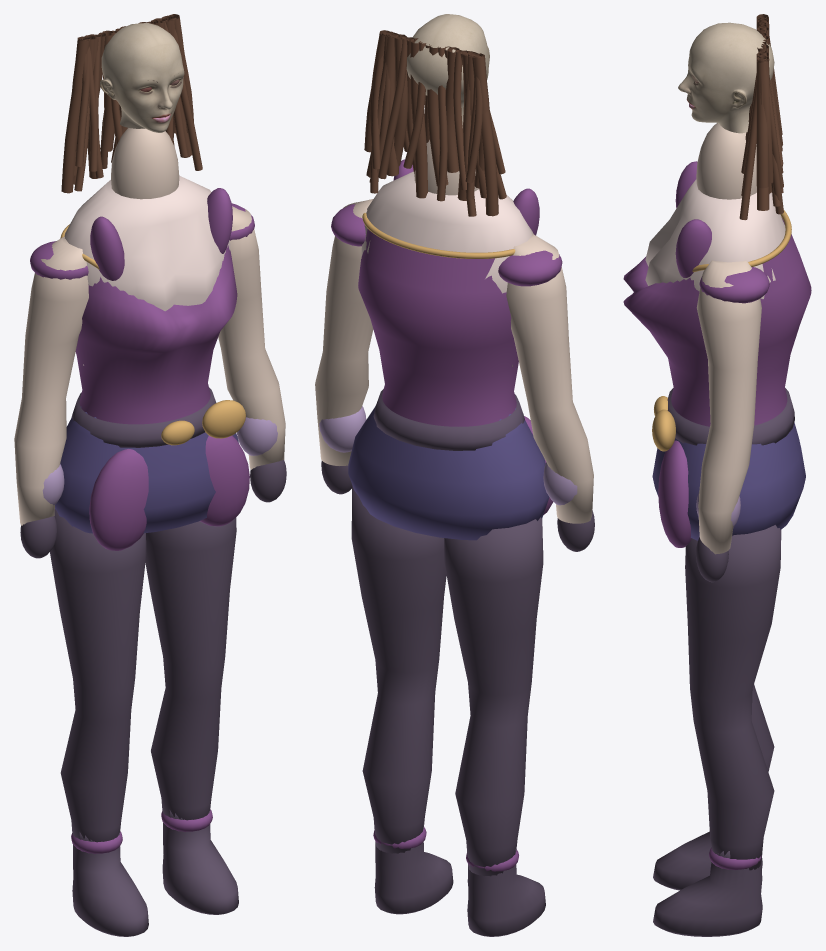
Rendered from katie_punch_0.glb.
3 renders of one model, left to right at view 1: azimuth 30°, elevation 25°; view 2: azimuth 150°, elevation 25°; view 3: azimuth 270°, elevation 25°, orthographic. The views are drawn at different scales.
Visible parts, largest first — view 1: Continuous trouser leg, Continuous trouser leg.001, Violet sweetheart bodice, Upper torso skin, Continuous arm, Fitted hip panel, Continuous arm.001, Imported Katie katie, Fitted boot, Fitted boot.001, Split violet overskirt, Neck (+19 smaller); view 2: Continuous trouser leg, Violet sweetheart bodice, Continuous trouser leg.001, Fitted hip panel, Continuous arm, Upper torso skin, Continuous arm.001, Fitted boot.001, Fitted boot, Imported Katie katie, Waist belt, Mantle clasp (+22 smaller); view 3: Continuous trouser leg.001, Violet sweetheart bodice, Continuous arm.001, Upper torso skin, Imported Katie katie, Fitted hip panel, Fitted boot.001, Neck, Split violet overskirt.001, Fitted boot, Waist belt, Mantle clasp.001 (+11 smaller).
Boxes of the visible parts, box(x1,y1,x2,y2) form: Continuous trouser leg: box(50, 509, 146, 842); Continuous trouser leg.001: box(145, 517, 236, 820); Violet sweetheart bodice: box(75, 245, 237, 424); Upper torso skin: box(64, 175, 230, 365); Continuous arm: box(14, 236, 88, 525); Fitted hip panel: box(55, 406, 238, 533); Continuous arm.001: box(218, 206, 285, 469); Imported Katie katie: box(100, 23, 184, 132); Fitted boot: box(72, 827, 148, 936); Fitted boot.001: box(162, 806, 238, 914); Split violet overskirt: box(89, 449, 148, 550); Neck: box(111, 128, 179, 199); Continuous trouser leg: box(444, 517, 543, 876); Violet sweetheart bodice: box(358, 229, 518, 426); Continuous trouser leg.001: box(351, 485, 446, 853); Fitted hip panel: box(348, 405, 549, 540); Continuous arm: box(506, 233, 593, 523); Upper torso skin: box(361, 171, 533, 366); Continuous arm.001: box(315, 199, 373, 465); Fitted boot.001: box(374, 824, 453, 914); Fitted boot: box(467, 846, 545, 936); Imported Katie katie: box(406, 14, 489, 127); Waist belt: box(373, 389, 524, 450); Mantle clasp: box(498, 250, 562, 286); Continuous trouser leg.001: box(685, 525, 781, 870); Violet sweetheart bodice: box(623, 217, 811, 426); Continuous arm.001: box(696, 260, 761, 554); Upper torso skin: box(645, 179, 785, 298); Imported Katie katie: box(678, 22, 774, 133); Fitted hip panel: box(652, 422, 805, 540); Fitted boot.001: box(653, 851, 762, 936); Neck: box(696, 123, 756, 199); Split violet overskirt.001: box(658, 440, 691, 547); Fitted boot: box(653, 831, 762, 890); Waist belt: box(667, 388, 794, 445); Mantle clasp.001: box(699, 267, 769, 303).
Bounding box in the file's own units: 0.6866 × 2.17 × 0.4209.
Materials: 11 (2 with a texture image).
